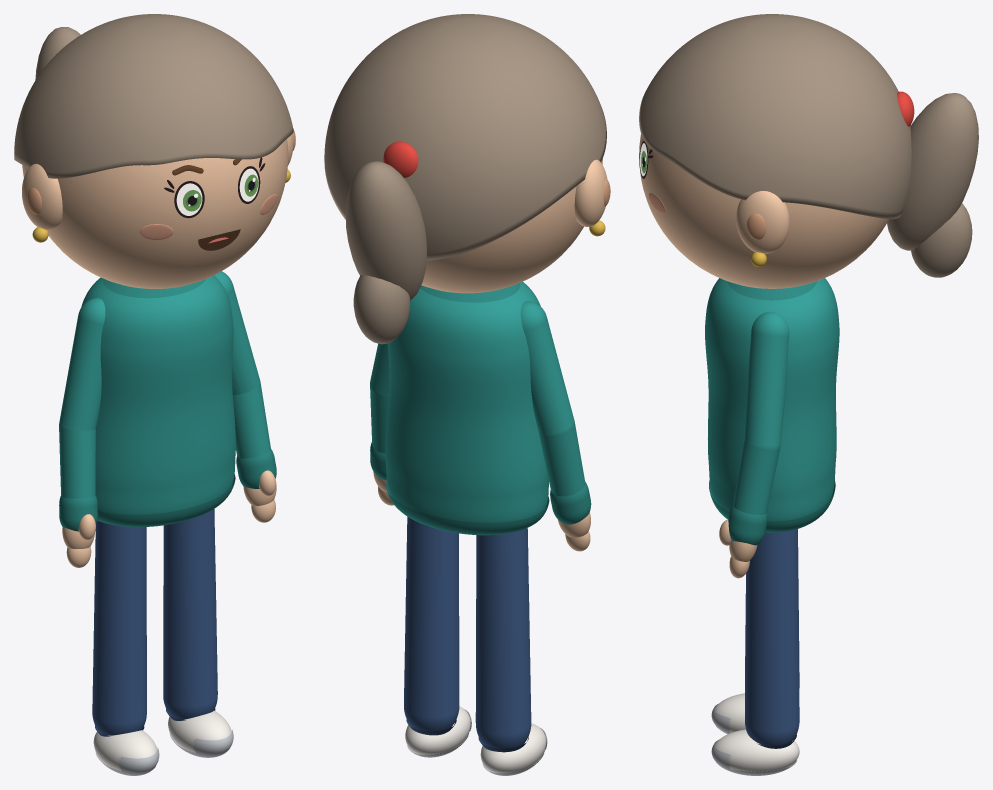
File: mama_grijs.glb
3 views of the same model, side by side, from view 1: azimuth 30°, elevation 25°; view 2: azimuth 150°, elevation 25°; view 3: azimuth 270°, elevation 25° (orthographic).
Parts seen in each view (by area): view 1: mama_grijs_haar, mama_grijs_romp, mama_grijs_hoofd, mama_grijs_been_R, mama_grijs_been_L, mama_grijs_bovenarm_R, mama_grijs_onderarm_R, mama_grijs_onderarm_L, mama_grijs_bovenarm_L, mama_grijs_oor_R, mama_grijs_schoen_R, mama_grijs_romp_boord (+8 smaller); view 2: mama_grijs_haar, mama_grijs_romp, mama_grijs_been_R, mama_grijs_been_L, mama_grijs_staart, mama_grijs_hoofd, mama_grijs_bovenarm_R, mama_grijs_staart_punt, mama_grijs_onderarm_R, mama_grijs_romp_boord, mama_grijs_schoen_R, mama_grijs_oor_R (+6 smaller); view 3: mama_grijs_haar, mama_grijs_romp, mama_grijs_hoofd, mama_grijs_been_L, mama_grijs_staart, mama_grijs_bovenarm_L, mama_grijs_staart_punt, mama_grijs_onderarm_L, mama_grijs_oor_L, mama_grijs_schoen_L, mama_grijs_manchet_L, mama_grijs_romp_halsboord (+2 smaller).
Boxes of the visible parts, x1=… form: mama_grijs_haar: x1=14, y1=14, x2=293, y2=178; mama_grijs_romp: x1=81, y1=275, x2=235, y2=514; mama_grijs_hoofd: x1=22, y1=139, x2=288, y2=288; mama_grijs_been_R: x1=92, y1=520, x2=146, y2=735; mama_grijs_been_L: x1=163, y1=509, x2=217, y2=719; mama_grijs_bovenarm_R: x1=59, y1=298, x2=105, y2=431; mama_grijs_onderarm_R: x1=59, y1=424, x2=95, y2=498; mama_grijs_onderarm_L: x1=233, y1=383, x2=270, y2=458; mama_grijs_bovenarm_L: x1=214, y1=271, x2=259, y2=395; mama_grijs_oor_R: x1=22, y1=163, x2=62, y2=230; mama_grijs_schoen_R: x1=93, y1=730, x2=157, y2=771; mama_grijs_romp_boord: x1=97, y1=474, x2=235, y2=527; mama_grijs_haar: x1=324, y1=14, x2=606, y2=260; mama_grijs_romp: x1=385, y1=281, x2=548, y2=522; mama_grijs_been_R: x1=475, y1=528, x2=531, y2=748; mama_grijs_been_L: x1=404, y1=516, x2=459, y2=731; mama_grijs_staart: x1=345, y1=161, x2=426, y2=300; mama_grijs_hoofd: x1=421, y1=159, x2=602, y2=293; mama_grijs_bovenarm_R: x1=520, y1=301, x2=574, y2=437; mama_grijs_staart_punt: x1=353, y1=275, x2=409, y2=344; mama_grijs_onderarm_R: x1=539, y1=423, x2=585, y2=496; mama_grijs_romp_boord: x1=386, y1=481, x2=549, y2=535; mama_grijs_schoen_R: x1=480, y1=723, x2=546, y2=773; mama_grijs_oor_R: x1=574, y1=159, x2=607, y2=226; mama_grijs_haar: x1=639, y1=14, x2=911, y2=219; mama_grijs_romp: x1=705, y1=278, x2=839, y2=521; mama_grijs_hoofd: x1=639, y1=134, x2=888, y2=288; mama_grijs_been_L: x1=745, y1=529, x2=799, y2=745; mama_grijs_staart: x1=887, y1=93, x2=978, y2=250; mama_grijs_bovenarm_L: x1=744, y1=311, x2=789, y2=450; mama_grijs_staart_punt: x1=911, y1=203, x2=972, y2=277; mama_grijs_onderarm_L: x1=733, y1=440, x2=779, y2=514; mama_grijs_oor_L: x1=736, y1=191, x2=789, y2=253; mama_grijs_schoen_L: x1=714, y1=729, x2=799, y2=771; mama_grijs_manchet_L: x1=728, y1=505, x2=767, y2=545; mama_grijs_romp_halsboord: x1=727, y1=281, x2=817, y2=300.
Size of the model in its own units: 0.668 by 1.75 by 0.7425.
